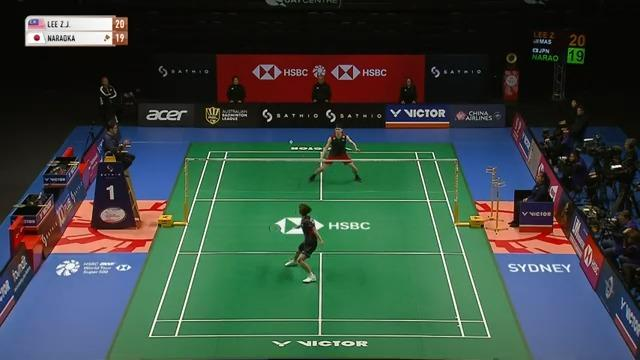Shuttlecock: (286, 136, 296, 146)
